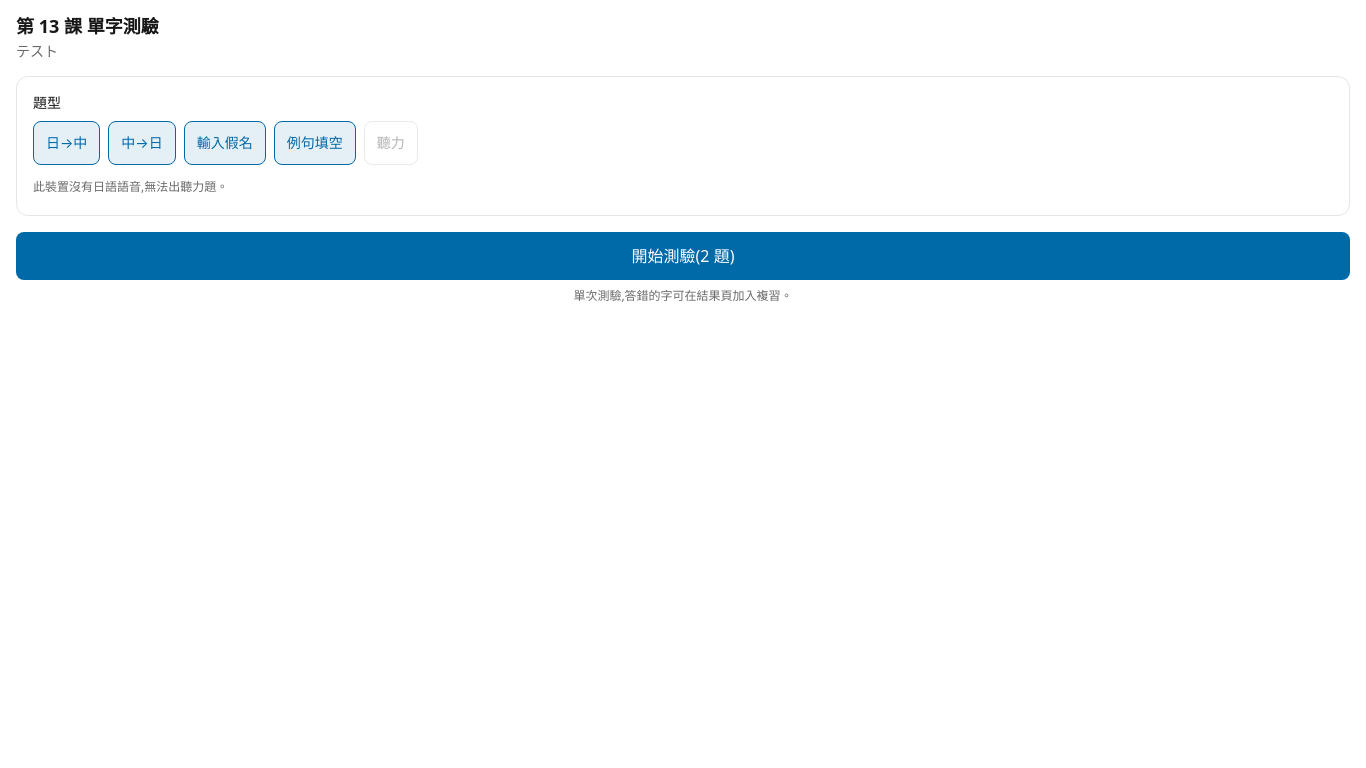
Test: QuizRunner › 選擇題:答對顯示回饋,下一題前進
The image size is (1366, 768).
Step 1. Click the button "開始測驗(2 題)" → [683, 256], box x1=16 y1=232 x2=1350 y2=280
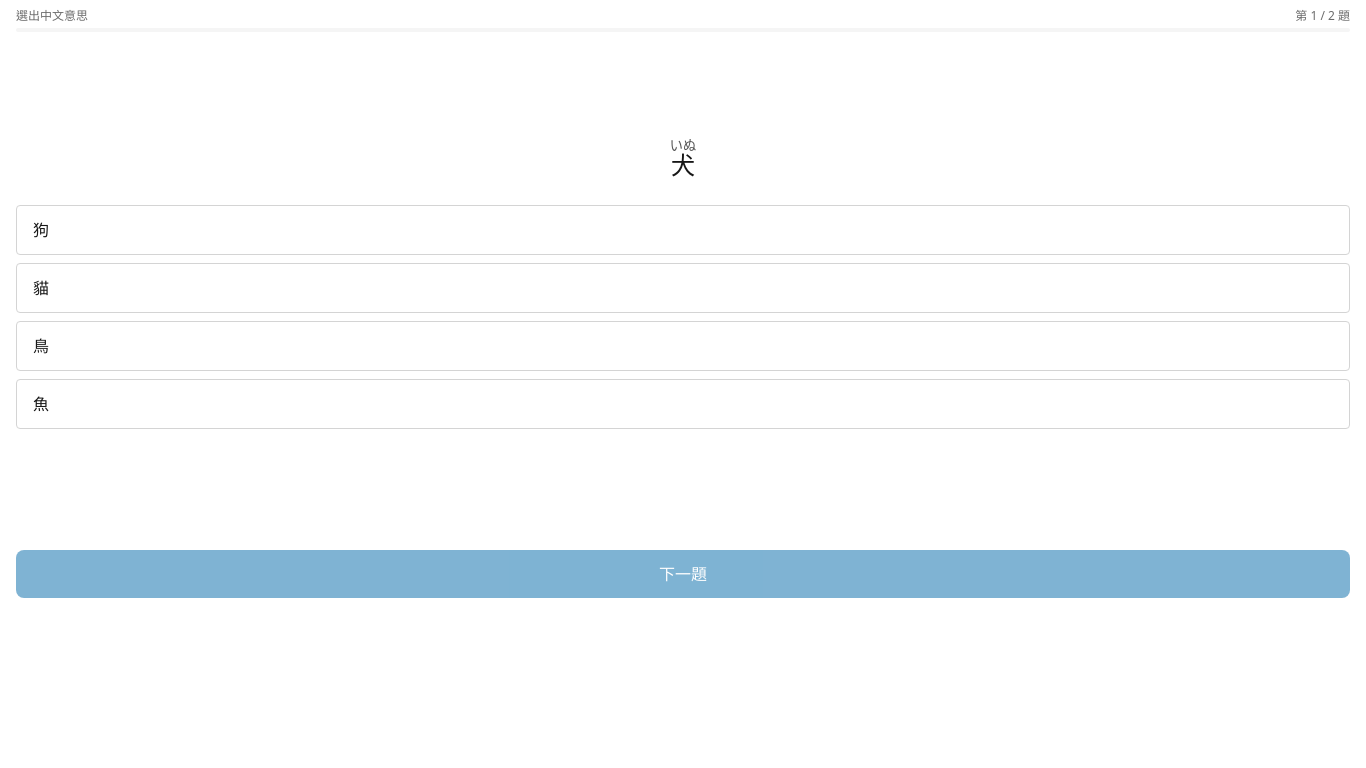
Expected: the text "第 1 / 2 題" is shown, x1=1295 y1=8 x2=1350 y2=24
Step 2. Click the button "狗" → [41, 230], box x1=16 y1=205 x2=1350 y2=255
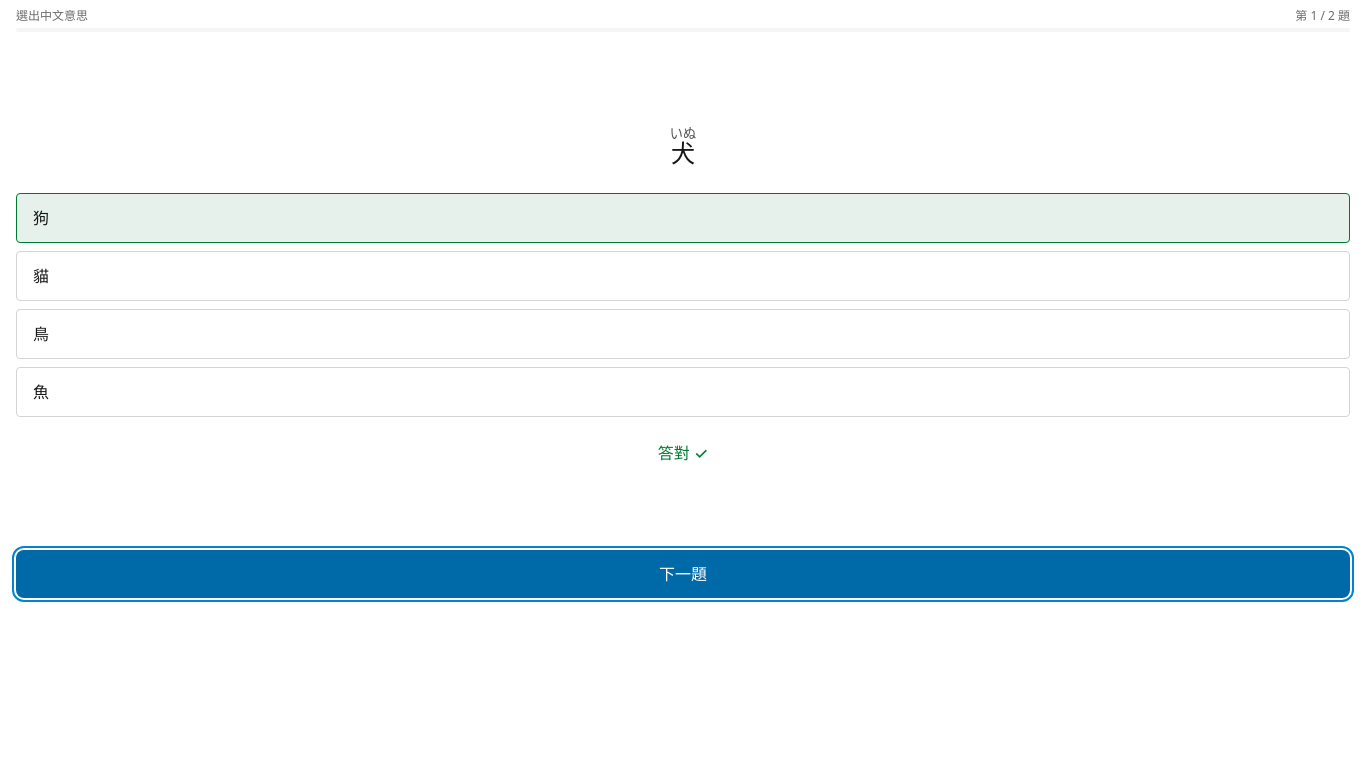
Expected: the text "答對 ✓" is shown, x1=658 y1=442 x2=708 y2=464
Step 3. Click the button "下一題" → [683, 574], box x1=16 y1=550 x2=1350 y2=598
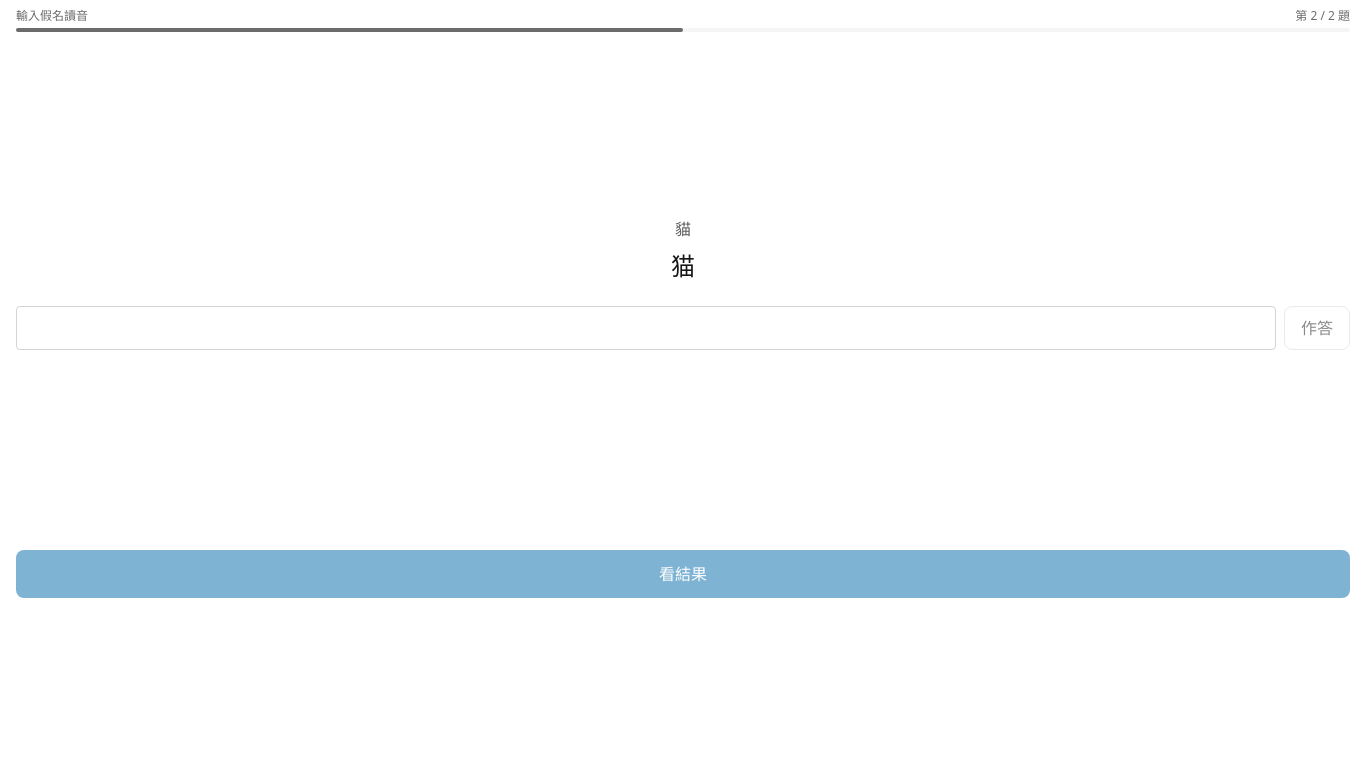
Expected: the text "第 2 / 2 題" is shown, x1=1295 y1=8 x2=1350 y2=24
